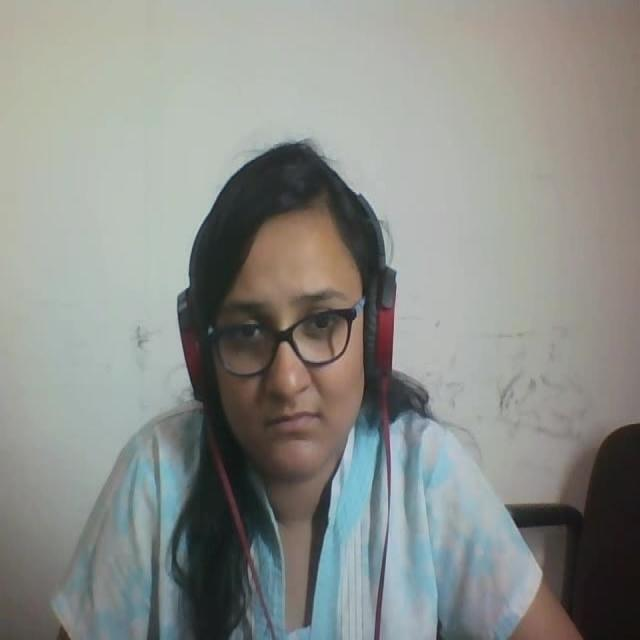Engaged: (162, 110, 416, 491)
